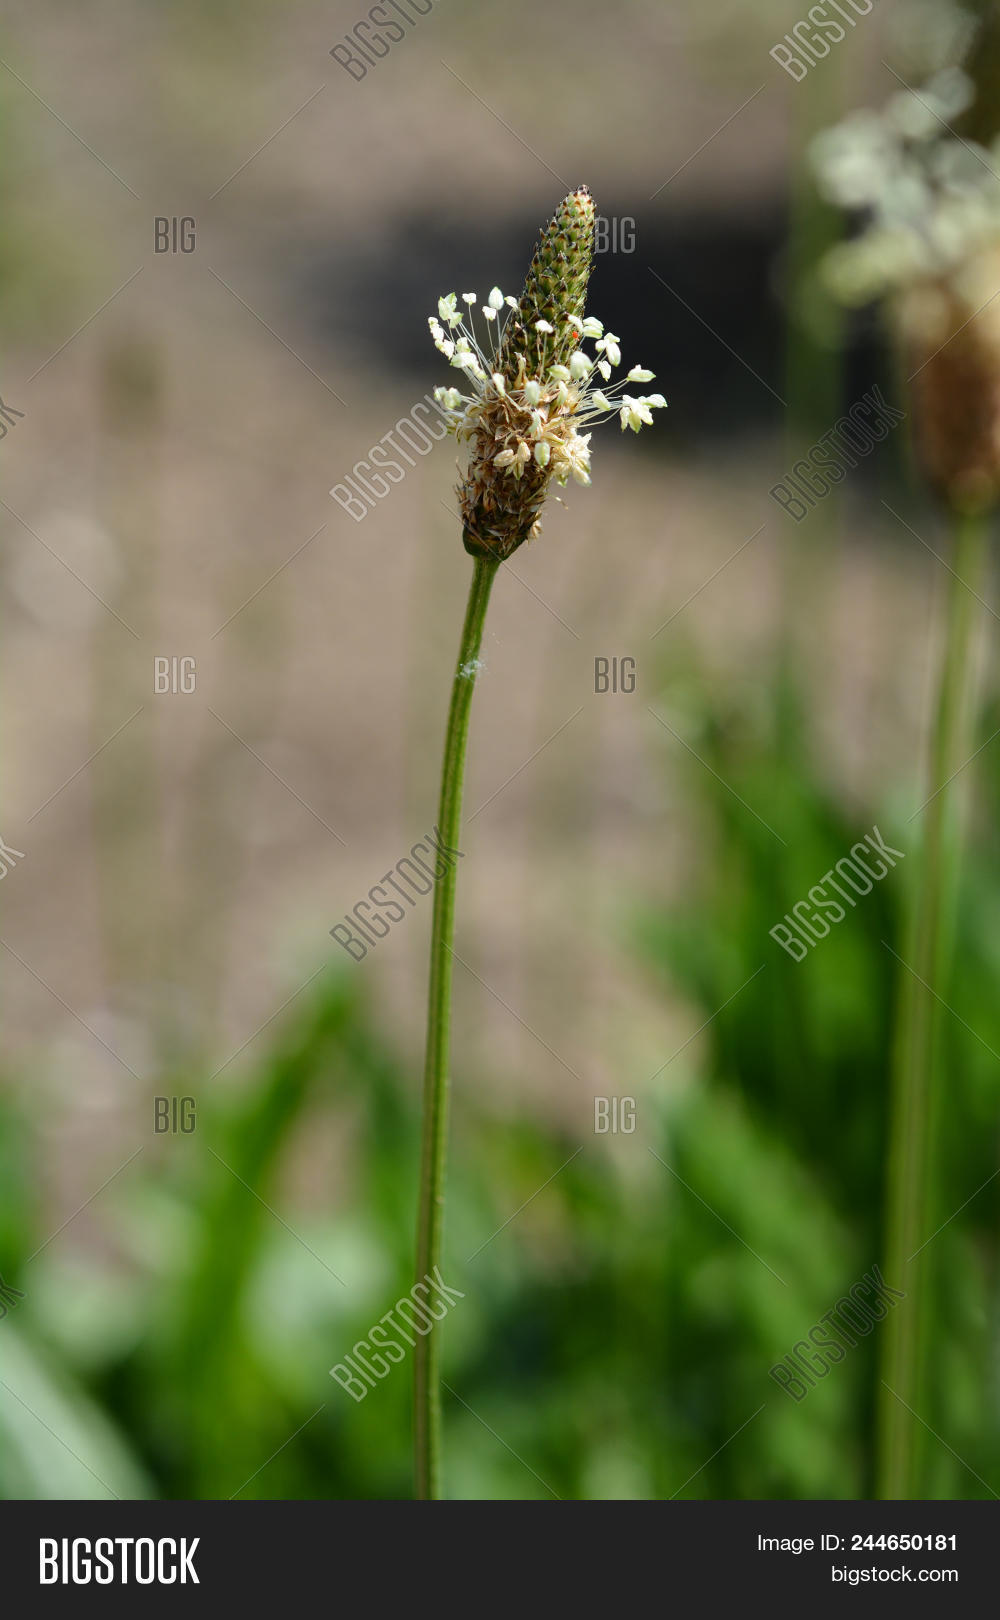buckhorn plantain: (338, 150, 693, 1214)
